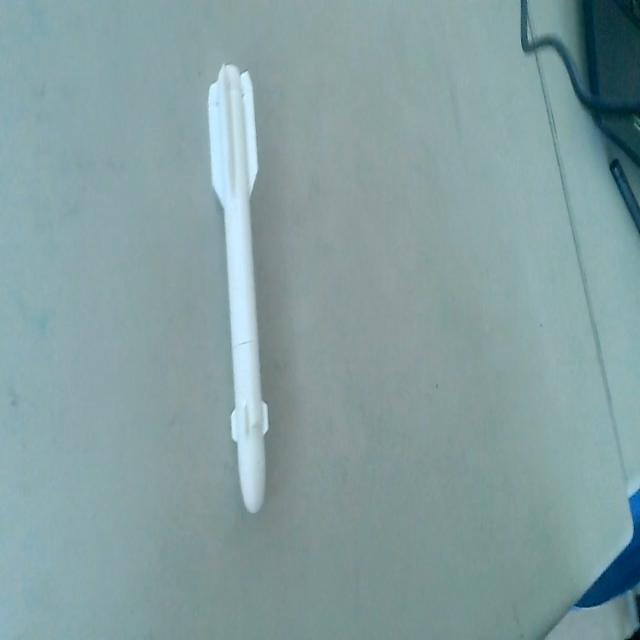Rocket: (205, 61, 273, 518)
